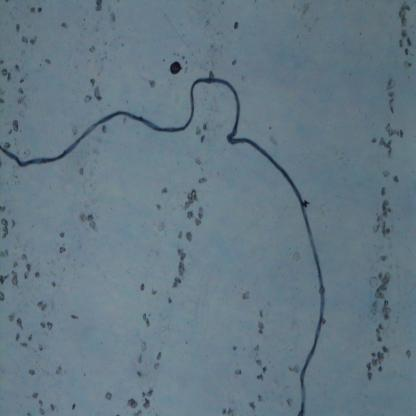Background material: (126, 155, 214, 414), (359, 1, 416, 390), (0, 204, 78, 414), (222, 283, 298, 415), (0, 0, 44, 135), (160, 51, 190, 80), (80, 75, 104, 108), (79, 208, 100, 236), (194, 121, 210, 144), (267, 131, 279, 148), (92, 1, 106, 14), (109, 10, 119, 27), (231, 18, 243, 32), (292, 249, 303, 264), (103, 390, 113, 406), (77, 166, 89, 179), (147, 77, 158, 91), (69, 124, 80, 138), (60, 20, 72, 32), (44, 59, 54, 68), (230, 60, 240, 69), (3, 141, 12, 150), (90, 41, 96, 53), (101, 125, 107, 135)
Cotton: (1, 74, 327, 416)
